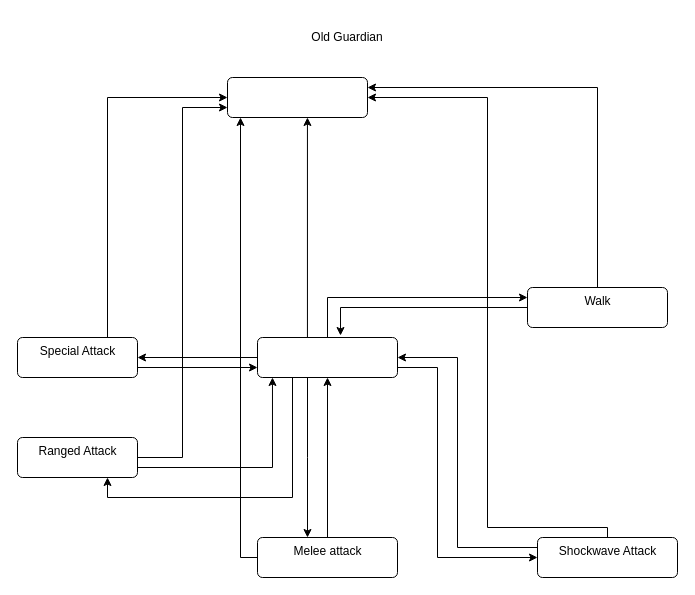
Image size: 695x595. Some labels were removed from this diagram. Each missing label, with the centre of its shape:
Death: pixel 297 97
Idle: pixel 327 357
